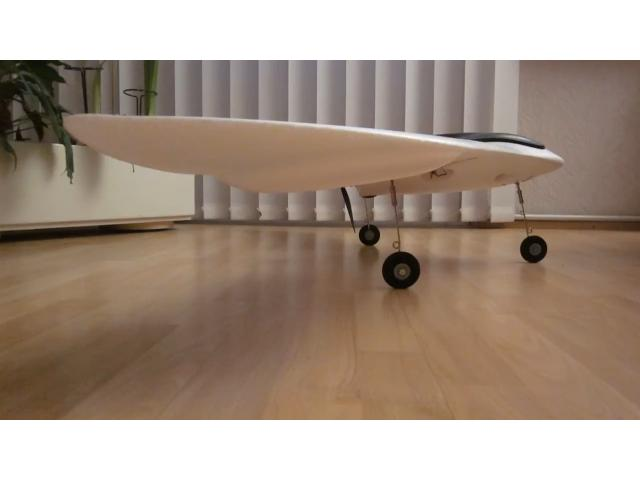Anti-Drone: (60, 97, 600, 209)
